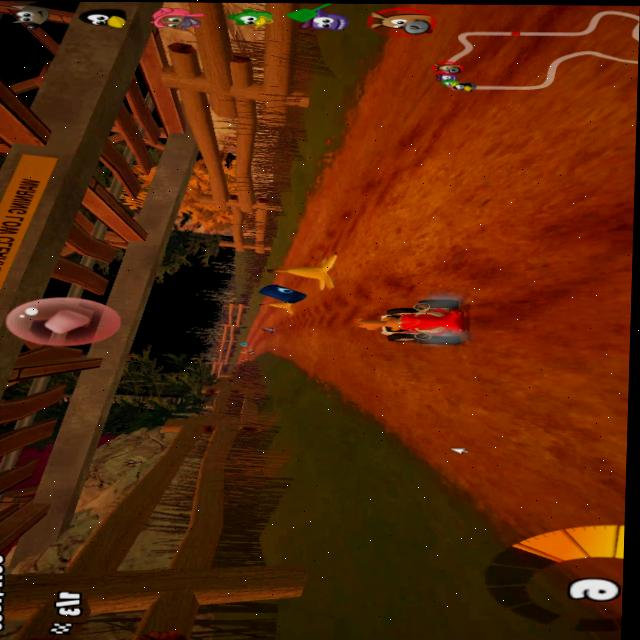obstacle: (265, 261, 342, 286), (262, 301, 305, 314)
track: (352, 79, 638, 297), (467, 299, 631, 514), (382, 344, 474, 473), (315, 136, 359, 257), (308, 291, 353, 380), (351, 345, 387, 416), (251, 317, 280, 354), (294, 215, 310, 257), (282, 324, 301, 359), (245, 331, 260, 362), (233, 351, 240, 367)
